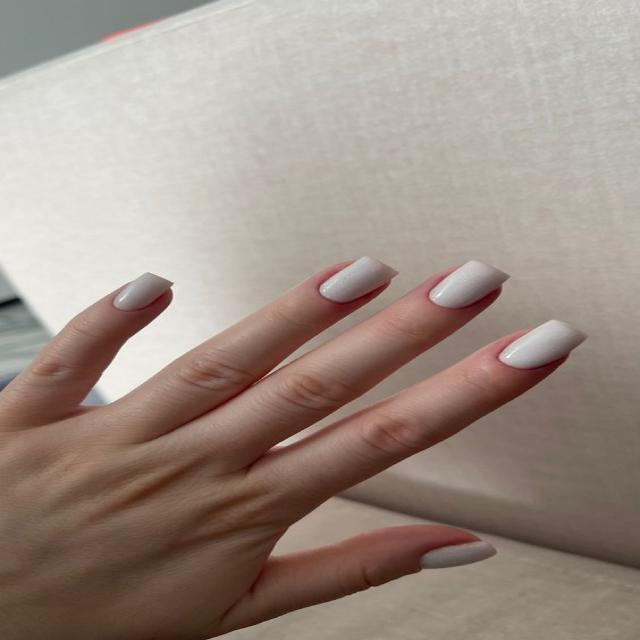Fingernail: (500, 320, 585, 369), (430, 261, 508, 307), (321, 257, 394, 301), (115, 274, 170, 310), (421, 543, 494, 569)
